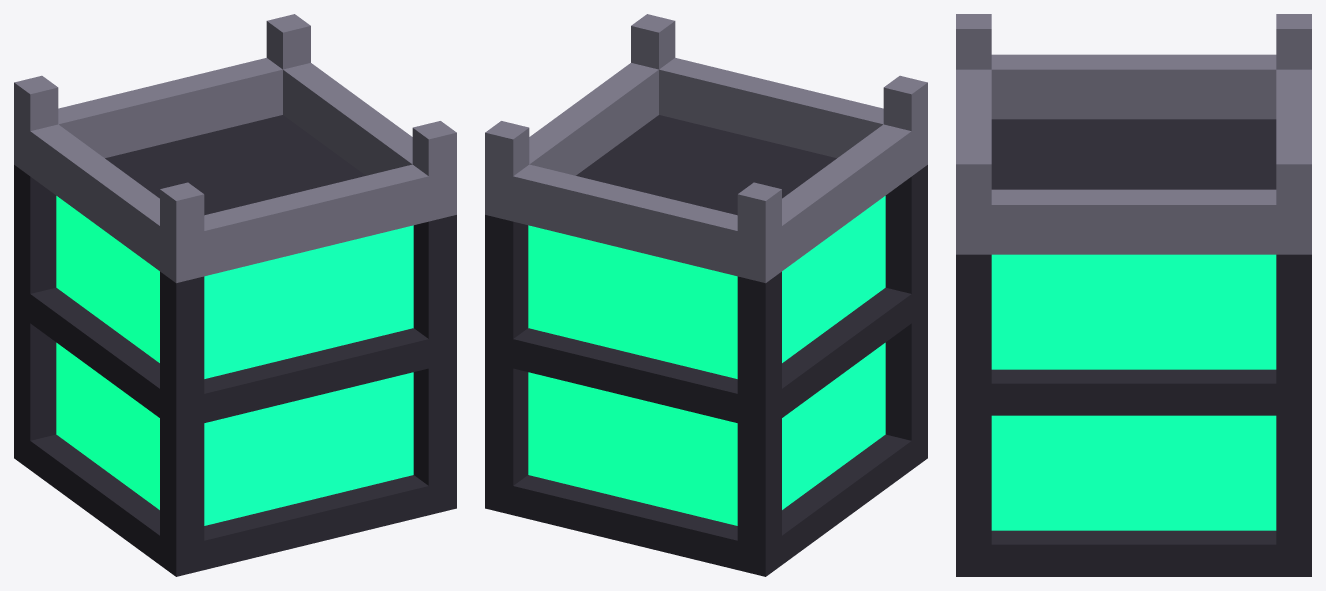
The model's file is TopCastle.fbx.
The picture shows the model from 3 angles, left to right: view 1: azimuth 30°, elevation 25°; view 2: azimuth 150°, elevation 25°; view 3: azimuth 270°, elevation 25°; orthographic projection. The views are drawn at different scales.
Parts seen in each view (by area): view 1: TopCastle; view 2: TopCastle; view 3: TopCastle.
Part boxes in pixels (x1=…): TopCastle: x1=14, y1=14, x2=456, y2=576; TopCastle: x1=485, y1=14, x2=927, y2=576; TopCastle: x1=956, y1=14, x2=1311, y2=576.
Size of the model in its own units: 200 by 256 by 200.
